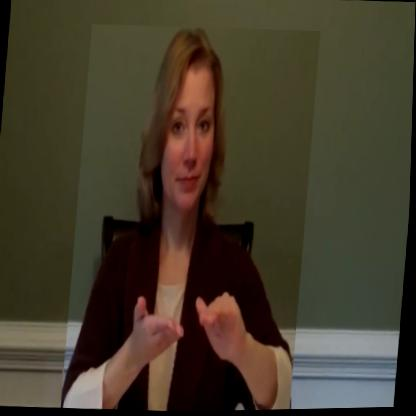ExcuseMe: (62, 20, 320, 415)
